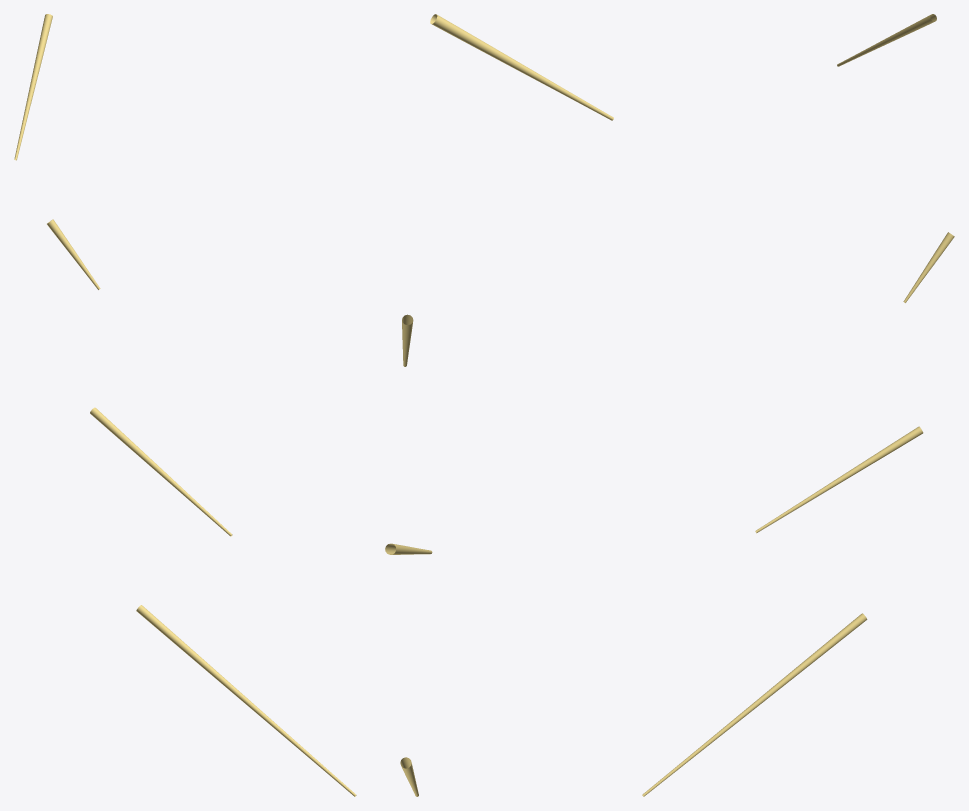
3 views of the same model, side by side, from view 1: azimuth 30°, elevation 25°; view 2: azimuth 150°, elevation 25°; view 3: azimuth 270°, elevation 25° (orthographic). The views are drawn at different scales.
Visible parts, largest first — view 1: ZA_f387ec1b242d6fd7; view 2: ZA_f387ec1b242d6fd7; view 3: ZA_f387ec1b242d6fd7.
Part boxes in pixels (x1=…): ZA_f387ec1b242d6fd7: x1=14, y1=14, x2=356, y2=796; ZA_f387ec1b242d6fd7: x1=385, y1=14, x2=613, y2=796; ZA_f387ec1b242d6fd7: x1=642, y1=14, x2=954, y2=796.
Bounding box in the file's own units: 0.0203 × 0.0569 × 0.0229.
